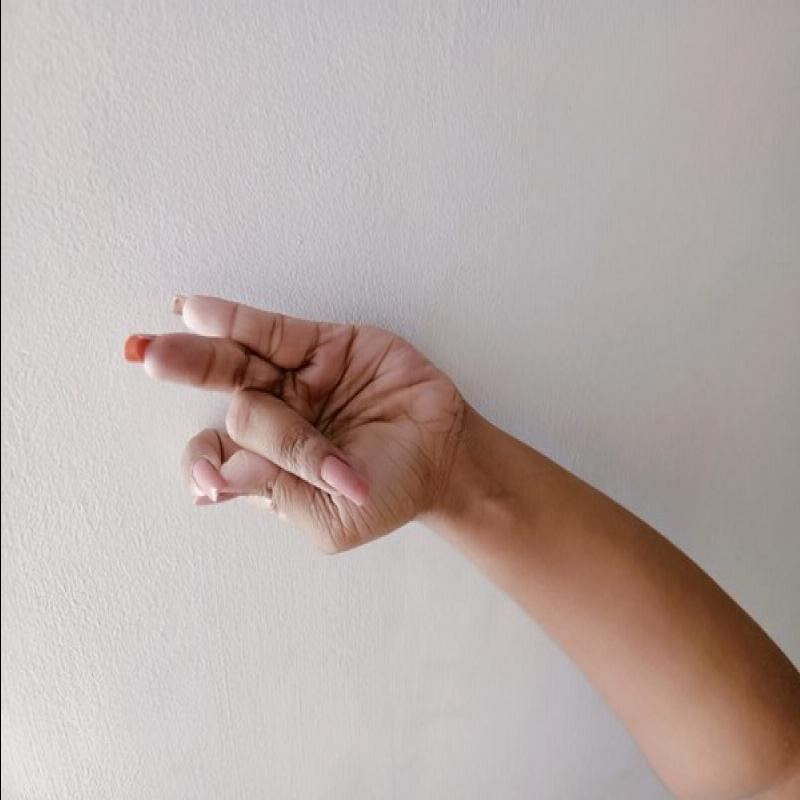Katakam: (106, 273, 466, 570)
